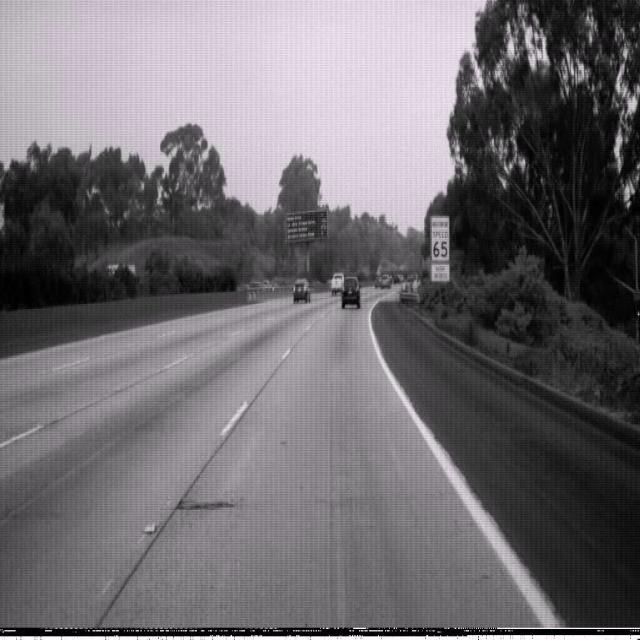speedLimit65: (430, 215, 449, 261)
